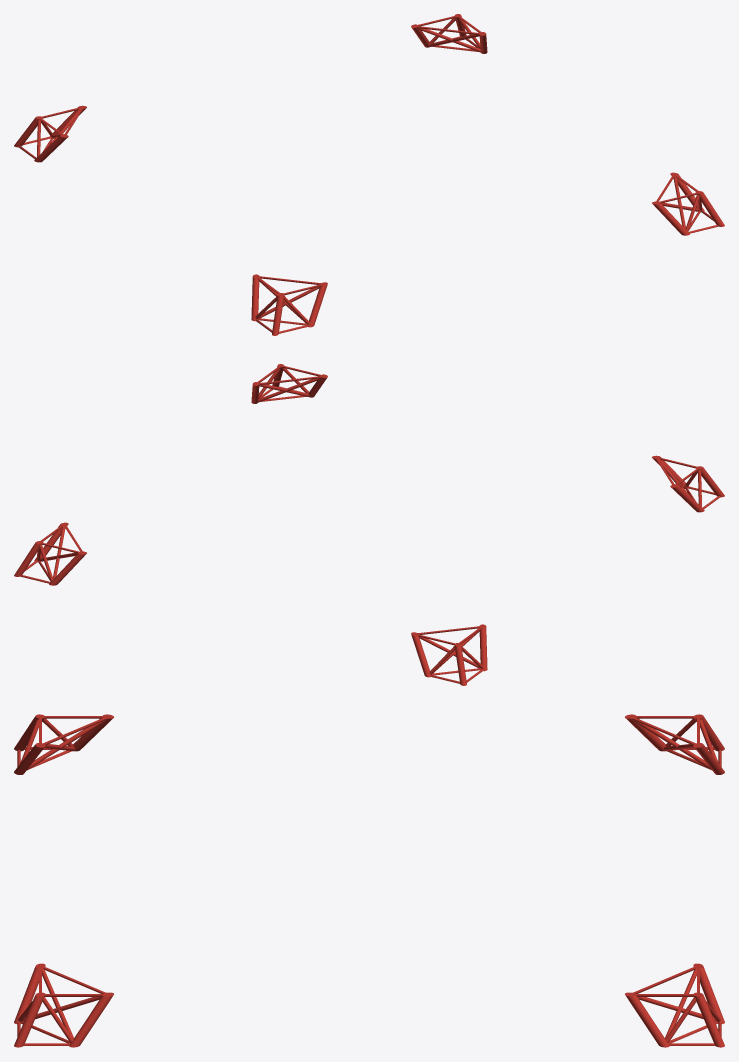
3 views of the same model, one above another, from view 1: azimuth 30°, elevation 25°; view 2: azimuth 150°, elevation 25°; view 3: azimuth 270°, elevation 25° (orthographic). The views are drawn at different scales.
Parts seen in each view (by area): view 1: H1b-H1c; view 2: H1b-H1c; view 3: H1b-H1c.
Part boxes in pixels (bbox=[...]): H1b-H1c: bbox=[14, 14, 724, 335]; H1b-H1c: bbox=[14, 364, 724, 685]; H1b-H1c: bbox=[14, 714, 724, 1047].
Bounding box in the file's own units: 77.37 × 5 × 77.37.
